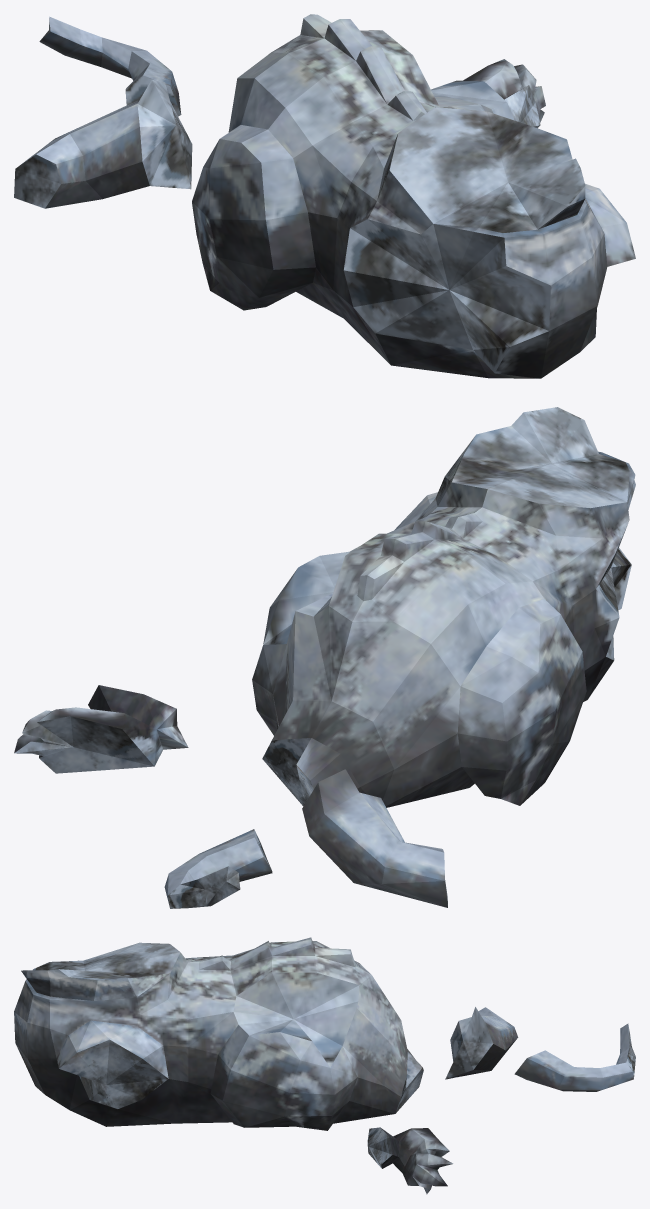
File: ShiZi_Snow_02.FBX
The picture shows the model from 3 angles, top to bottom: view 1: azimuth 30°, elevation 25°; view 2: azimuth 150°, elevation 25°; view 3: azimuth 270°, elevation 25°; orthographic projection. The views are drawn at different scales.
Parts seen in each view (by area): view 1: Object001; view 2: Object001; view 3: Object001.
Boxes of the visible parts, box(x1,y1,x2,y2) form: Object001: box(14, 14, 635, 378); Object001: box(14, 407, 635, 908); Object001: box(14, 937, 635, 1194).
Size of the model in its own units: 194 by 95.17 by 314.
